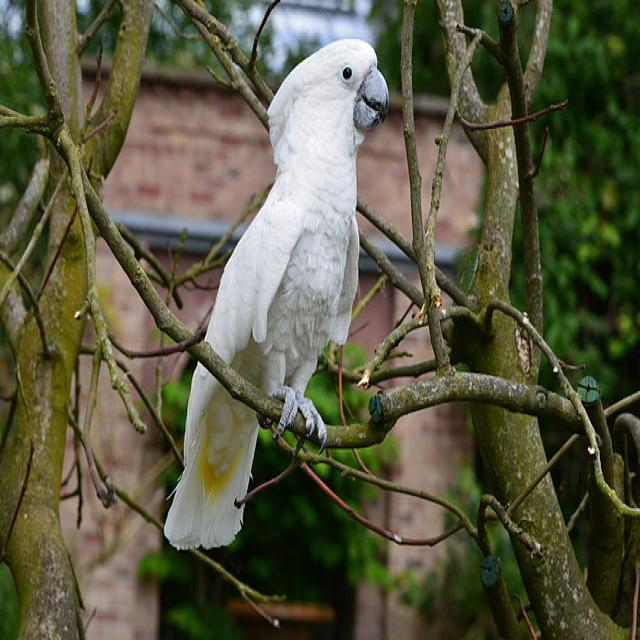Kakatua Putih: (140, 3, 404, 561)
